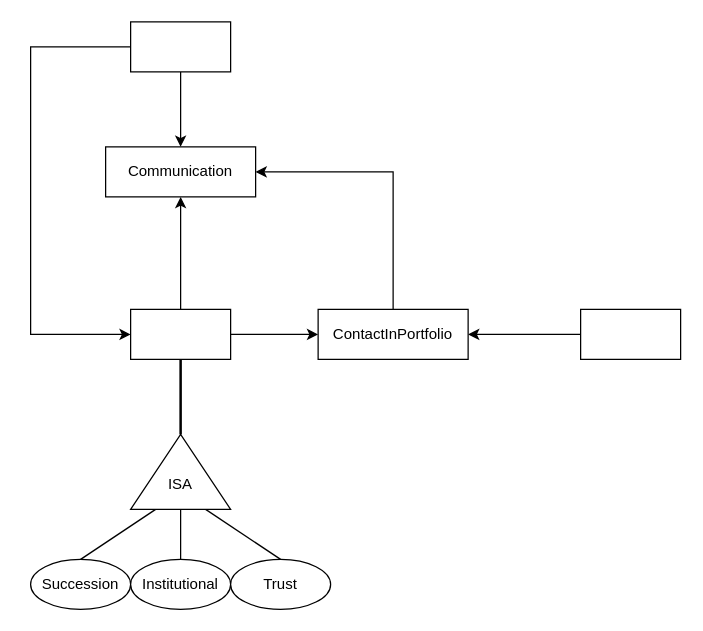
This 703x631 diagram has some shape labels left out. The centre of each missing label's shape, as x and y in pixels:
"Contact" goes at pixel 630 333.
"Portfolio" goes at pixel 180 333.
"User" goes at pixel 180 46.
